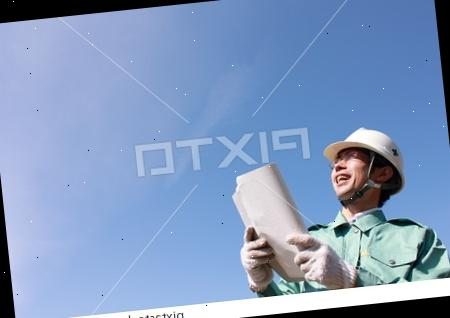helmet: (319, 118, 411, 194)
